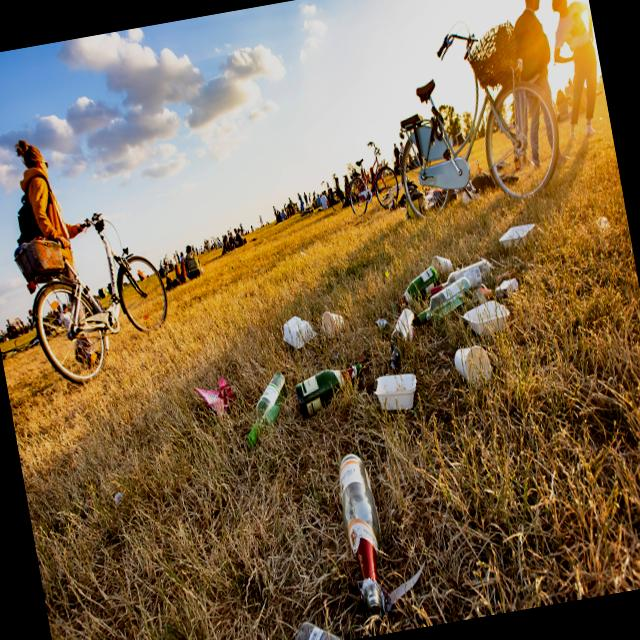garbage: (180, 218, 631, 640)
